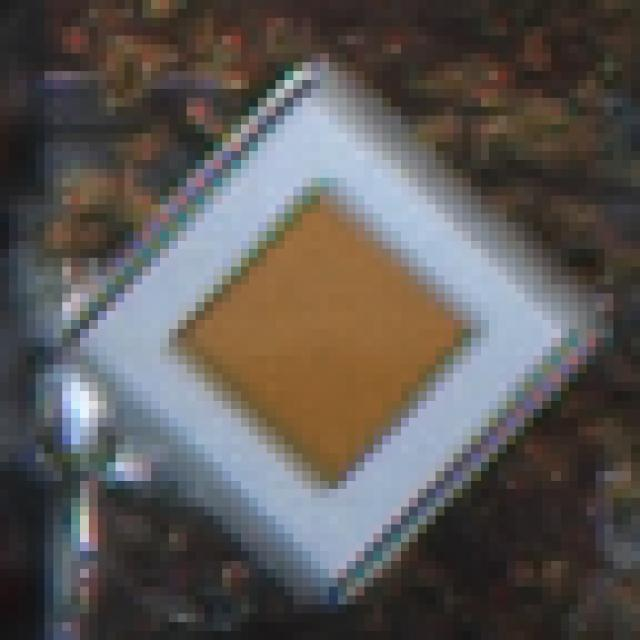Main Road: (63, 63, 588, 588)
